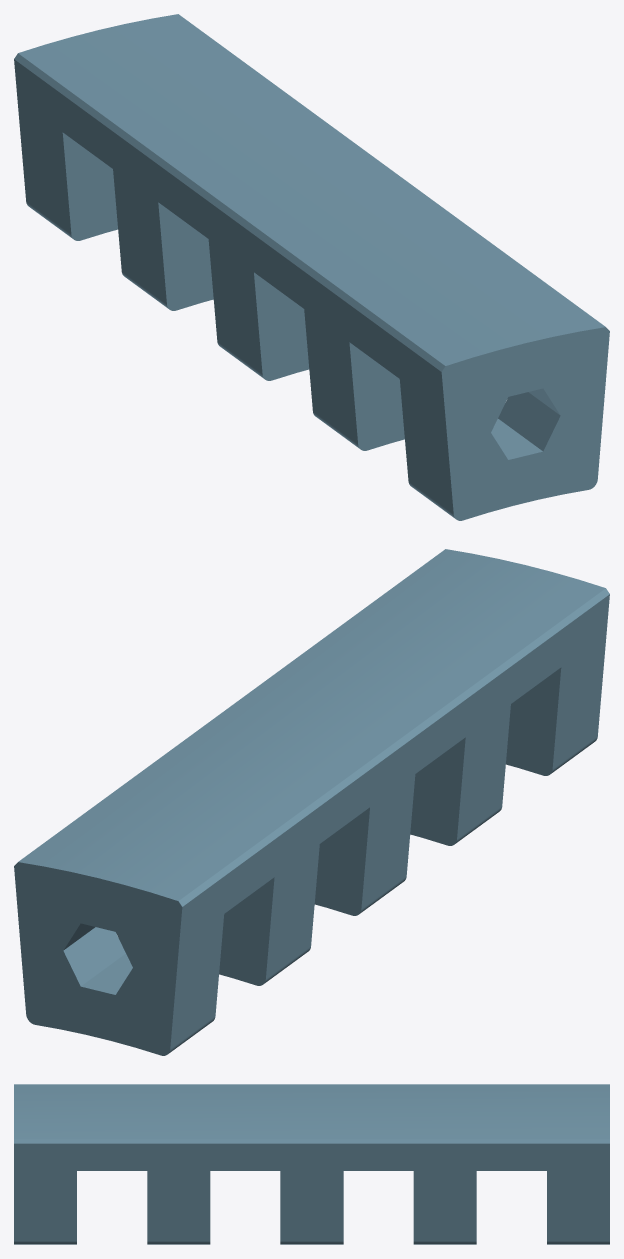
Rendered from comb-device-4.glb.
The picture shows the model from 3 angles, top to bottom: view 1: azimuth 30°, elevation 25°; view 2: azimuth 150°, elevation 25°; view 3: azimuth 270°, elevation 25°; orthographic projection. The views are drawn at different scales.
Visible parts, largest first — view 1: comb-device-4; view 2: comb-device-4; view 3: comb-device-4.
Part boxes in pixels (box(x1,y1,x2,y2)): comb-device-4: box(14, 14, 609, 520); comb-device-4: box(14, 549, 609, 1055); comb-device-4: box(14, 1084, 609, 1244).
Size of the model in its own units: 38.65 by 35.56 by 170.
